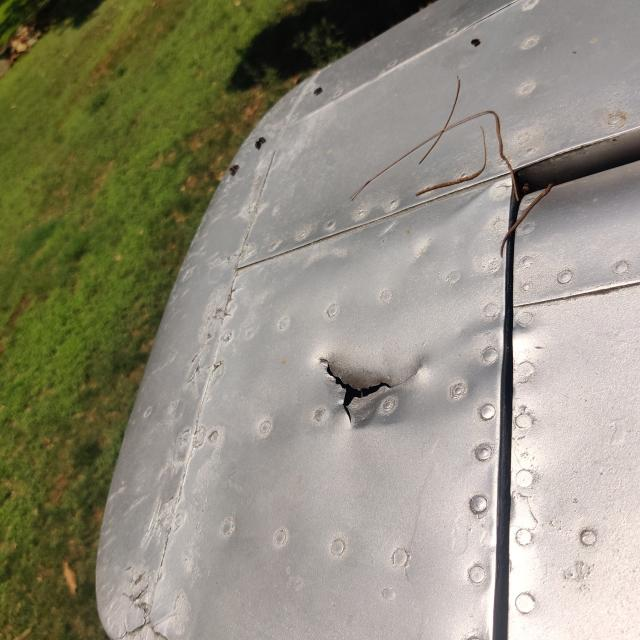crack: (206, 311, 300, 428)
